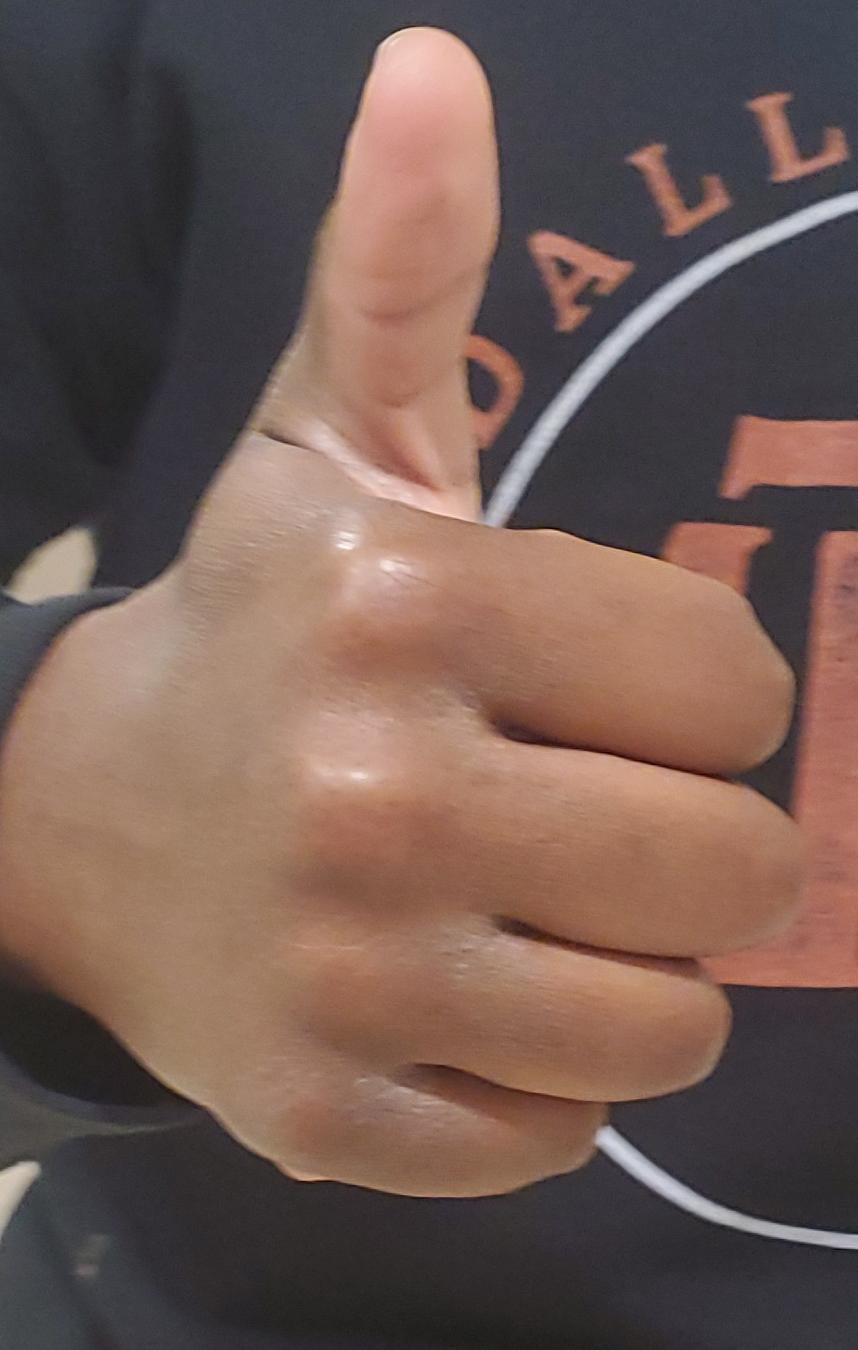up: (0, 1, 858, 1350)
